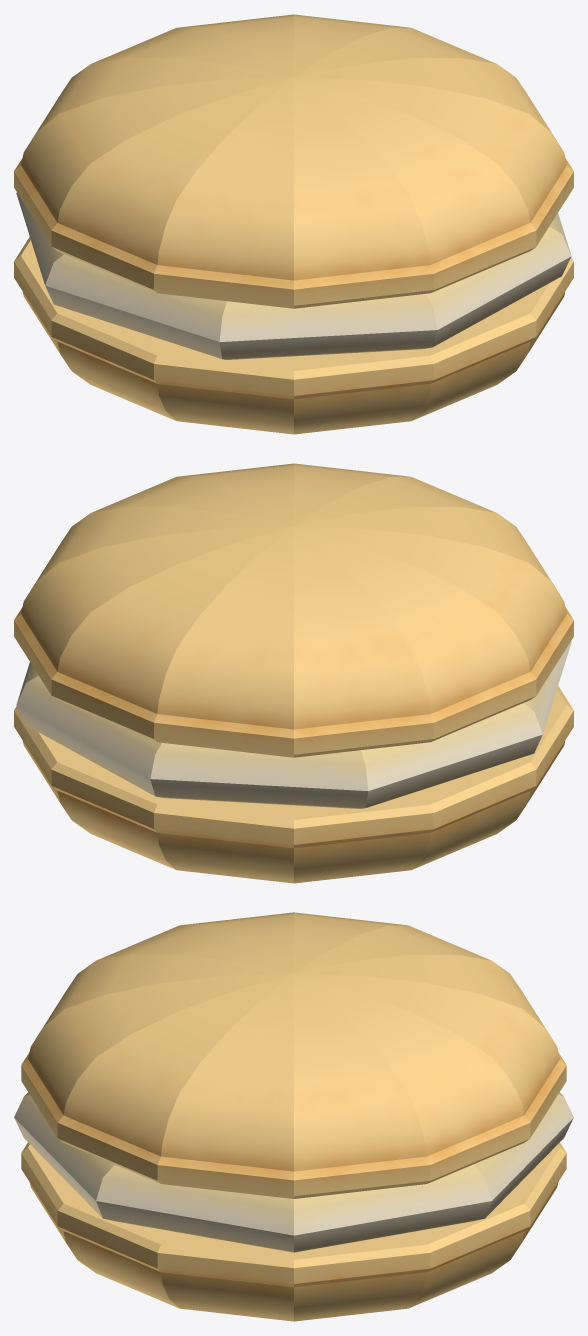
Rendered from Macaron001.fbx.
The picture shows the model from 3 angles, top to bottom: view 1: azimuth 30°, elevation 25°; view 2: azimuth 150°, elevation 25°; view 3: azimuth 270°, elevation 25°; orthographic projection. The views are drawn at different scales.
Parts seen in each view (by area): view 1: macaroon2; view 2: macaroon2; view 3: macaroon2.
Boxes of the visible parts, <box> form: macaroon2: <box>14,14,573,434</box>; macaroon2: <box>14,463,573,883</box>; macaroon2: <box>14,912,573,1321</box>.
Size of the model in its own units: 1.13 by 0.6397 by 1.13.
Materials: 1 (1 with a texture image).
